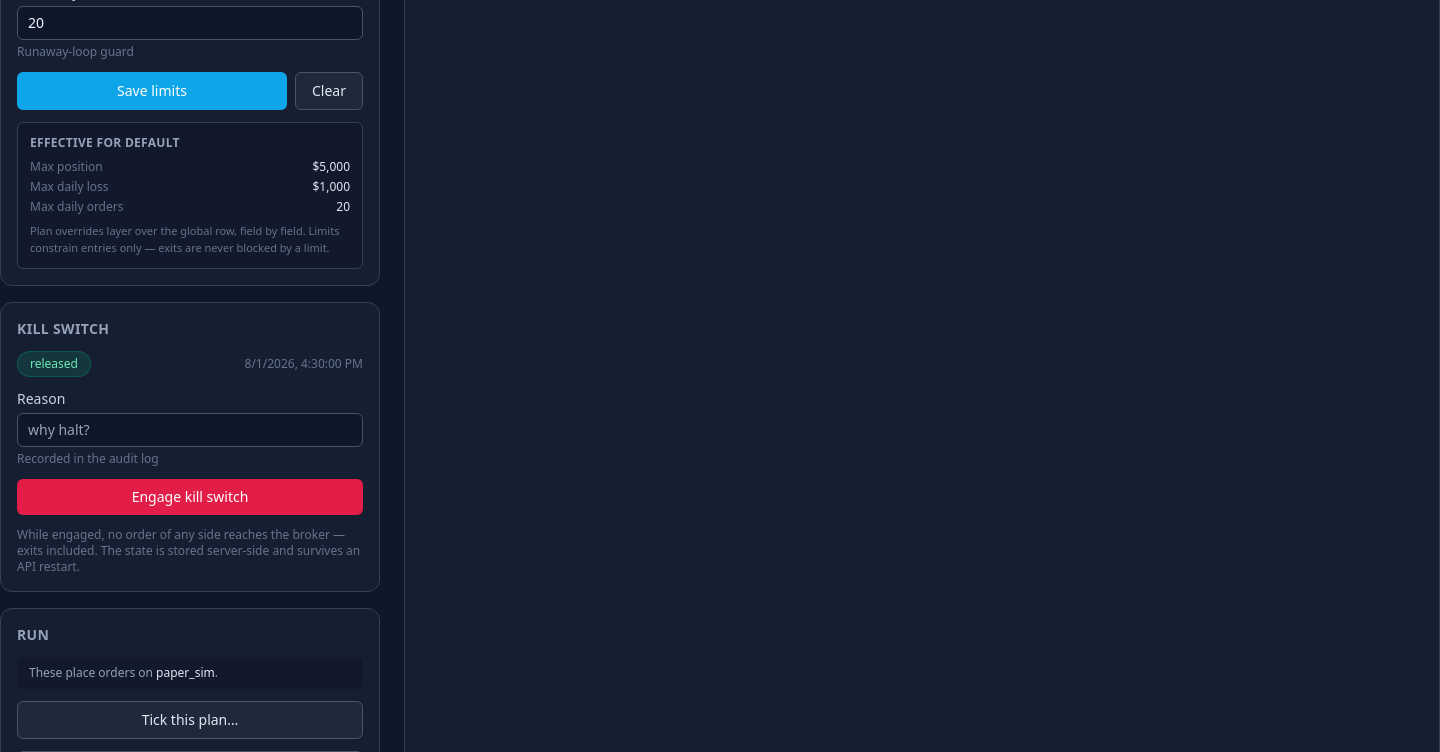
Scenario: TradingConsole › dismisses the action error
(page scrolled)
Click the button "Engage kill switch": (190, 497) [17,479,363,515]
(page scrolled)
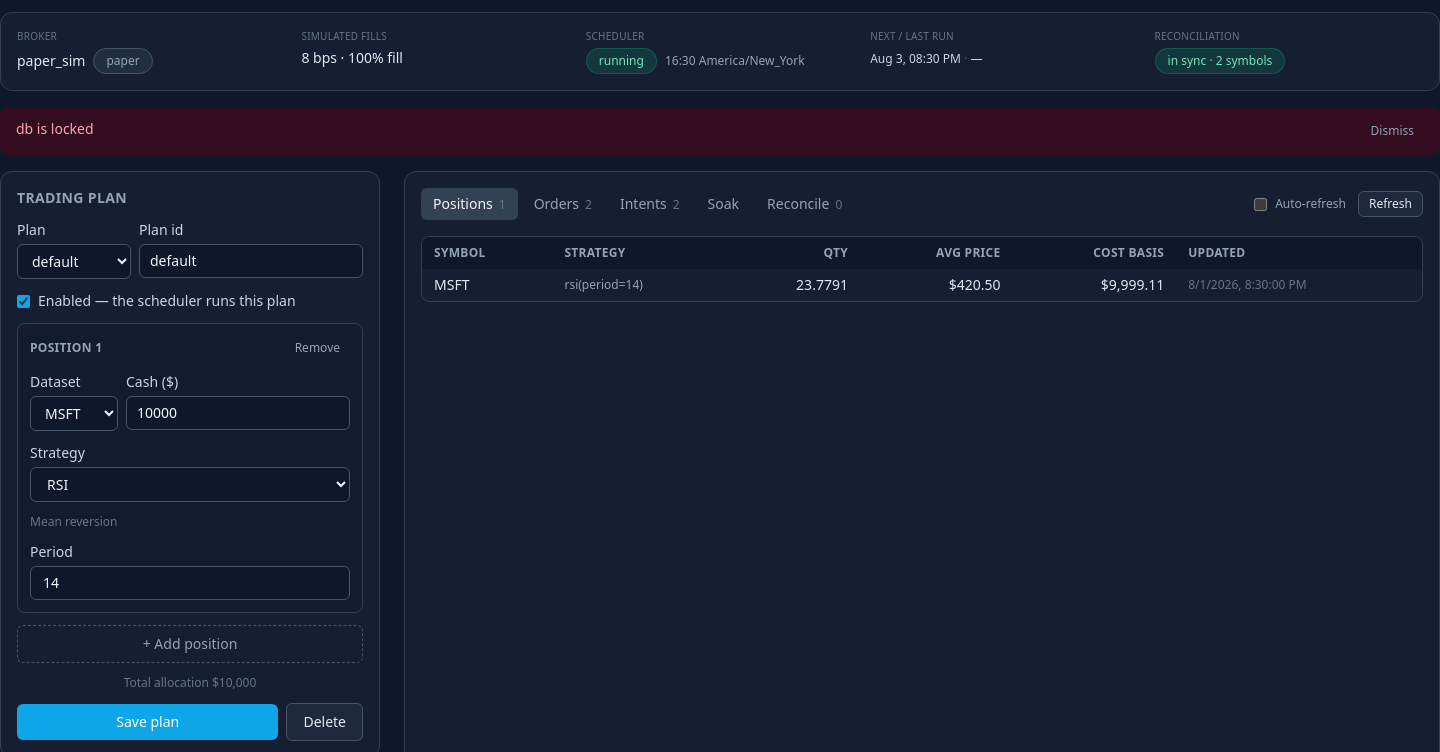
Result: the text "db is locked" is shown at [16,119,94,139]
Click the button "Dismiss": (1392, 131) [1361,119,1424,143]
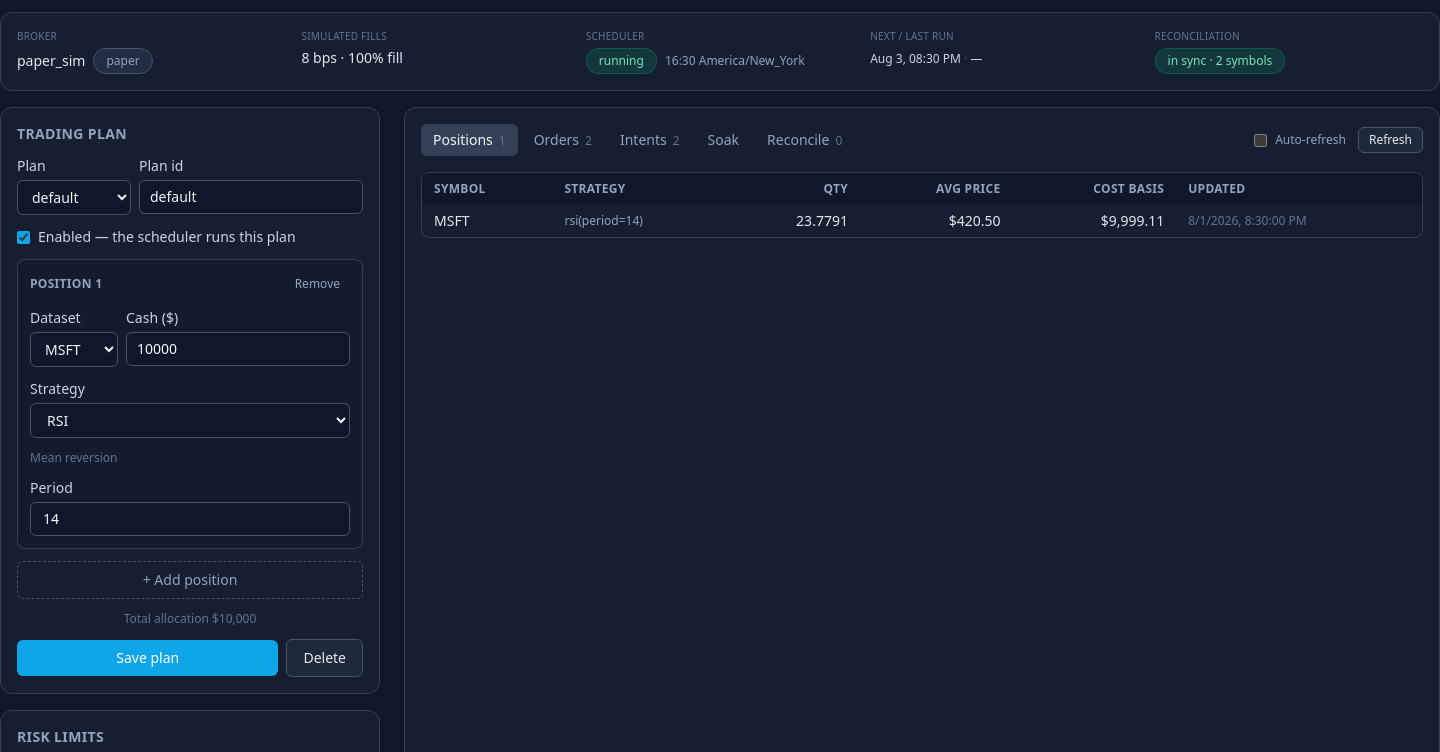
Result: the text "db is locked" is gone
